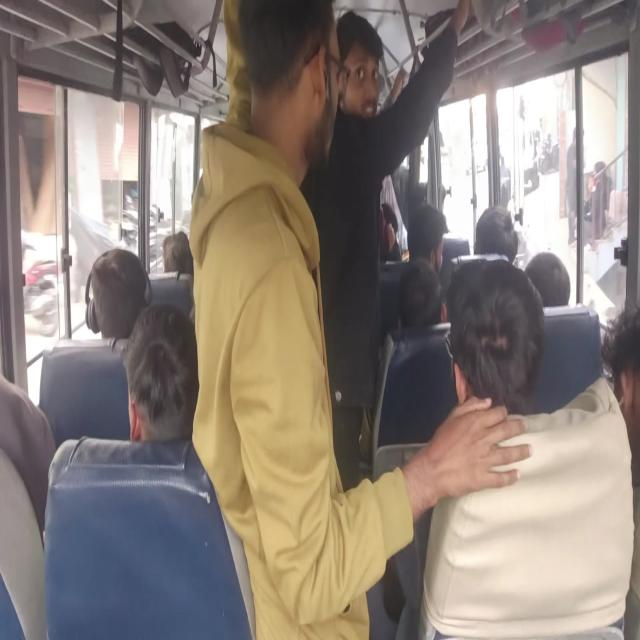person: (189, 0, 535, 638), (300, 0, 470, 493), (418, 255, 635, 638), (601, 302, 639, 638), (120, 302, 199, 442), (85, 246, 152, 350), (406, 202, 449, 274), (524, 250, 571, 308), (474, 204, 518, 265), (565, 125, 586, 245), (583, 160, 612, 237), (161, 231, 193, 275), (379, 202, 401, 262)
